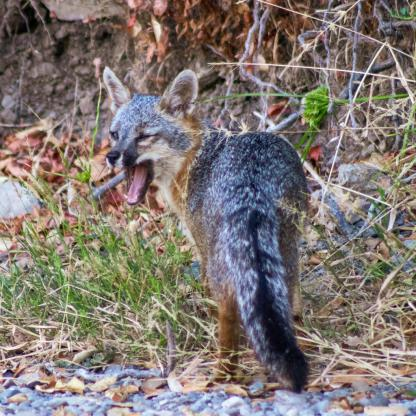zorro: (89, 58, 324, 397)
